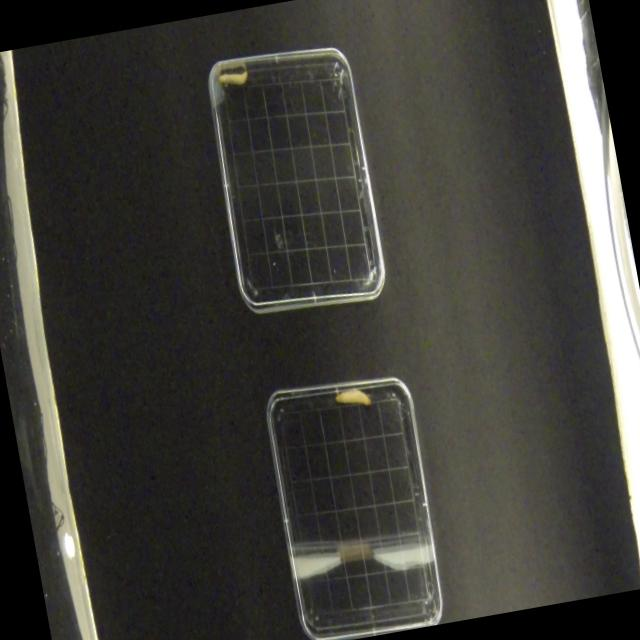larva: (215, 65, 251, 94), (333, 386, 372, 412)
